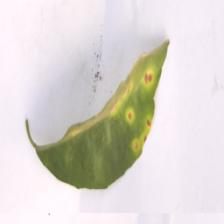canker: (87, 67, 172, 172)
